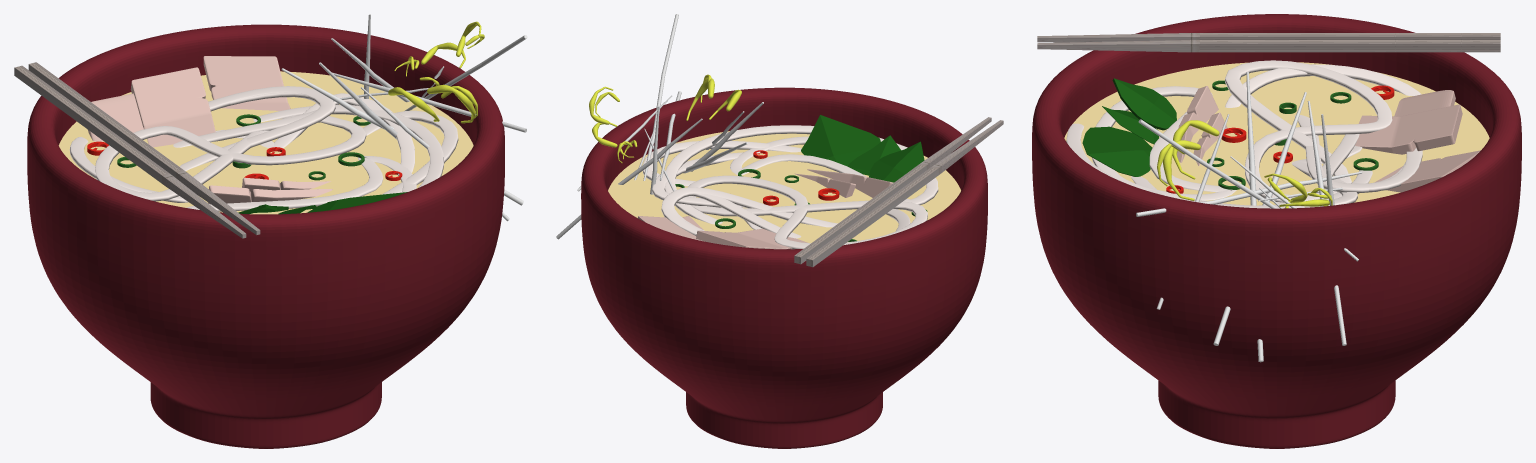
Rendered from Phở bò bean sprouts messed up.fbx.
3 renders of one model, left to right at view 1: azimuth 30°, elevation 25°; view 2: azimuth 150°, elevation 25°; view 3: azimuth 270°, elevation 25°, orthographic. The views are drawn at different scales.
Parts seen in each view (by area): view 1: Cylinder, Cylinder.001, BézierCircle.008, Cube, Cube.004, Cube.002, Cube.005, BézierCircle.005, BézierCircle.002, BézierCircle, BézierCircle.007, BézierCircle.003 (+10 smaller); view 2: Cylinder, Cylinder.001, BézierCircle.008, Cube.004, Plane, Cube.005, BézierCircle, BézierCircle.002, BézierCircle.005, Cube, Plane.002, BézierCircle.003 (+8 smaller); view 3: Cylinder, Cylinder.001, Cube.005, BézierCircle.008, Cube, Cube.004, BézierCircle.002, Plane, BézierCircle.006, Plane.002, BézierCircle.005, Cube.002 (+14 smaller).
Boxes of the visible parts, <box> form: Cylinder: <box>27,24,504,448</box>; Cylinder.001: <box>58,71,473,214</box>; BézierCircle.008: <box>95,115,366,201</box>; Cube: <box>130,67,215,147</box>; Cube.004: <box>14,65,246,238</box>; Cube.002: <box>203,56,290,110</box>; Cube.005: <box>28,62,260,234</box>; BézierCircle.005: <box>179,86,333,170</box>; BézierCircle.002: <box>186,156,416,211</box>; BézierCircle: <box>253,104,443,187</box>; BézierCircle.007: <box>173,92,335,147</box>; BézierCircle.003: <box>363,110,458,194</box>; Cylinder: <box>581,87,987,448</box>; Cylinder.001: <box>608,131,960,243</box>; BézierCircle.008: <box>688,175,927,249</box>; Cube.004: <box>806,120,1003,267</box>; Plane: <box>801,115,880,166</box>; Cube.005: <box>794,117,991,264</box>; BézierCircle: <box>664,125,907,224</box>; BézierCircle.002: <box>730,136,938,204</box>; BézierCircle.005: <box>661,187,837,235</box>; Cube: <box>696,228,807,249</box>; Plane.002: <box>869,141,924,182</box>; BézierCircle.003: <box>642,140,801,186</box>; Cylinder: <box>1032,14,1521,448</box>; Cylinder.001: <box>1064,62,1489,205</box>; Cube.005: <box>1037,40,1500,52</box>; BézierCircle.008: <box>1225,60,1392,203</box>; Cube: <box>1355,104,1462,154</box>; Cube.004: <box>1037,33,1500,42</box>; BézierCircle.002: <box>1092,86,1236,200</box>; Plane: <box>1082,126,1152,176</box>; BézierCircle.006: <box>1225,64,1421,107</box>; Plane.002: <box>1112,78,1176,130</box>; BézierCircle.005: <box>1294,115,1420,191</box>; Cube.002: <box>1374,150,1480,192</box>.
Size of the model in its own units: 204 by 164 by 191.
